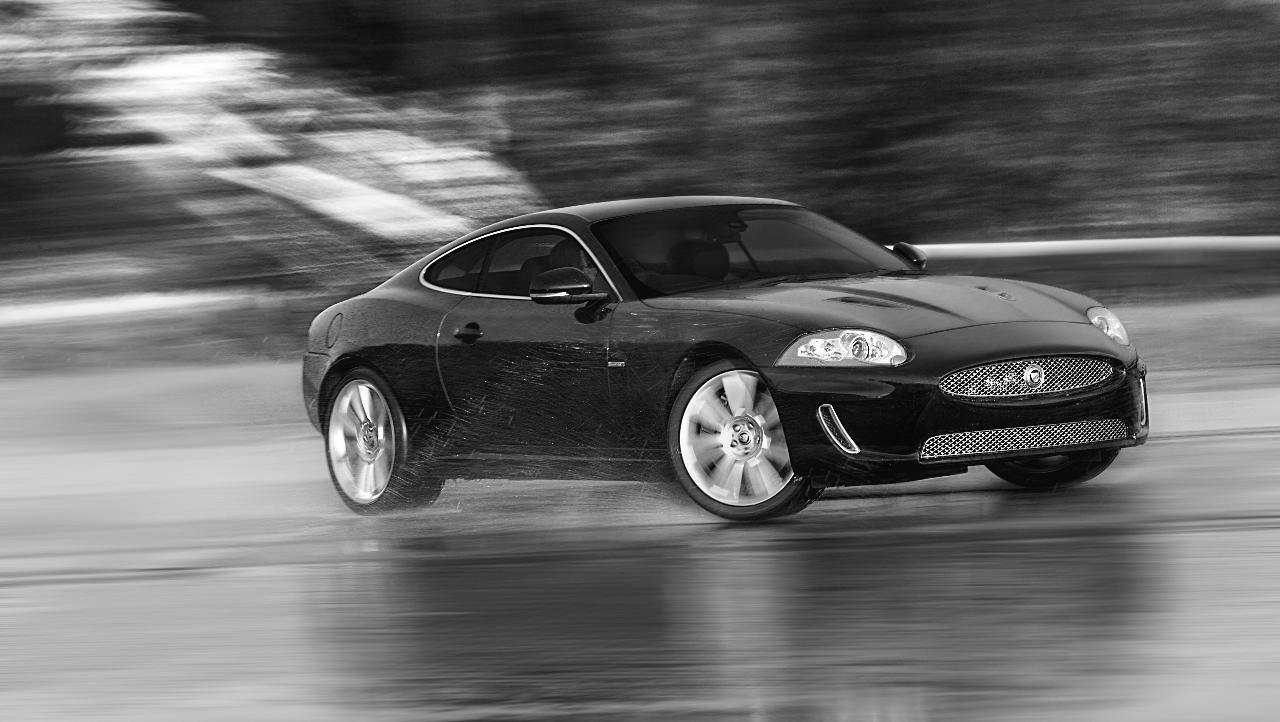car: (309, 199, 1152, 522)
